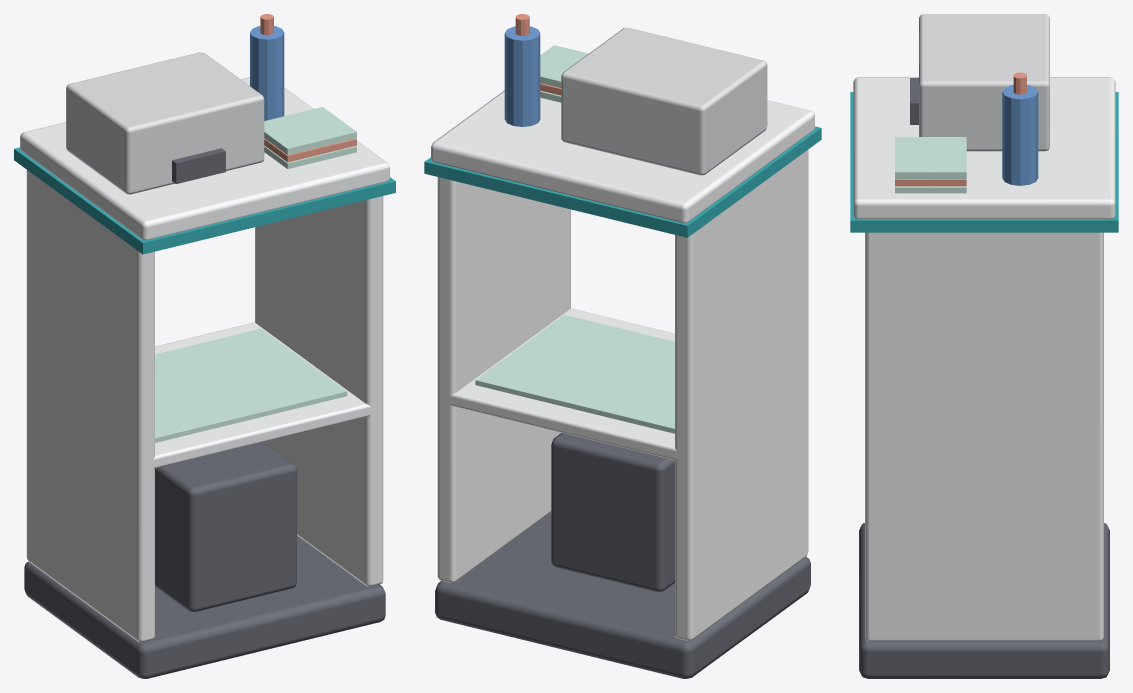
3 renders of one model, left to right at view 1: azimuth 30°, elevation 25°; view 2: azimuth 150°, elevation 25°; view 3: azimuth 270°, elevation 25°, orthographic. The views are drawn at different scales.
Parts seen in each view (by area): view 1: cleaning-station; view 2: cleaning-station; view 3: cleaning-station.
Boxes of the visible parts, box(x1,y1,x2,y2) form: cleaning-station: box(14, 14, 395, 678); cleaning-station: box(424, 14, 821, 678); cleaning-station: box(850, 14, 1118, 678).
Bounding box in the file's own units: 0.51 × 1.08 × 0.45.
